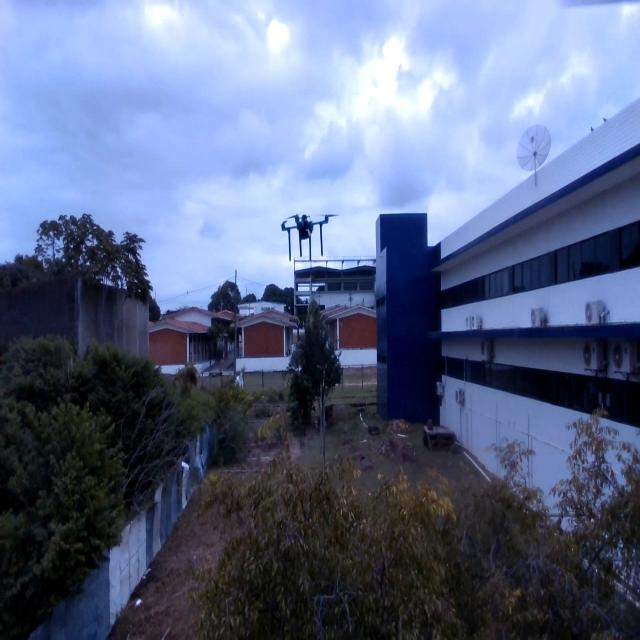-uav-: (276, 193, 339, 274)
